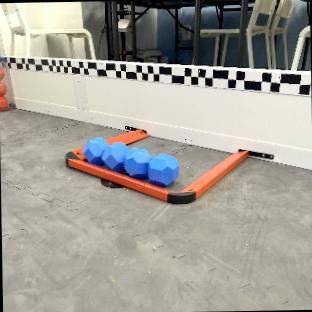Parking-R: (65, 148, 266, 203)
V5_BLUE: (84, 137, 178, 186)
V5_RED: (0, 68, 8, 109)
